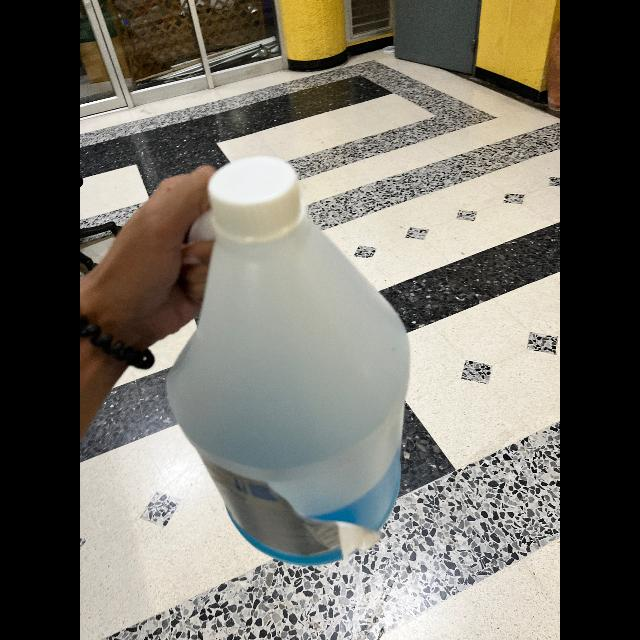chemical_plastic_gallon: (162, 153, 416, 569)
